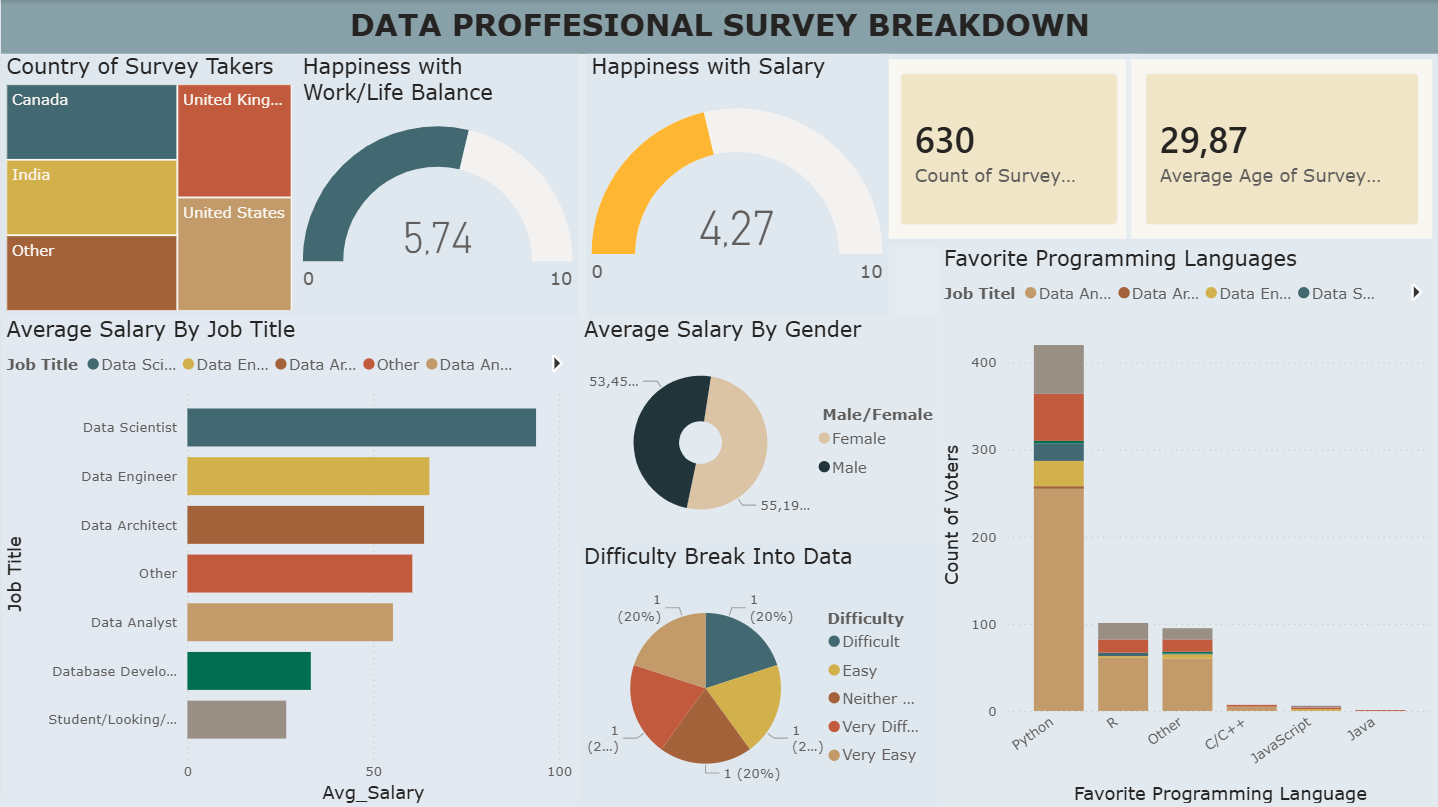

Layout of this report page (visuals, bound fields, positions):
{"tool":"powerbi","page":{"name":"Page 1","canvas":[1280,720],"ordinal":0},"visuals":[{"type":"textbox","box":[0,0,1280.3,48],"z":0},{"type":"cardVisual","fields":{"Data":["Count(Data Professional Survey.Unique ID)"]},"box":[783.6,47.4,228.7,170.5],"z":1000},{"type":"cardVisual","fields":{"Data":["Avg(Data Professional Survey.Q10 - Current Age)"]},"box":[1001.7,48,278.6,170.2],"z":2000},{"type":"barChart","title":"Average Salary By Job Title","fields":{"Category":["Data Professional Survey.Q1 - Which Title Best Fits your Current Role?.1"],"Y":["Avg(Data Professional Survey.Avg_Salary)"],"Series":["Data Professional Survey.Q1 - Which Title Best Fits your Current Role?.1"]},"box":[0,281.5,514.3,438.5],"z":3000},{"type":"columnChart","title":"Favorite Programming Languages","fields":{"Category":["Data Professional Survey.Q5 - Favorite Programming Language.1"],"Y":["CountNonNull(Data Professional Survey.Unique ID)"],"Series":["Data Professional Survey.Q1 - Which Title Best Fits your Current Role?.1"]},"box":[835,217.9,445.3,502.1],"z":4000},{"type":"treemap","title":"Country of Survey Takers","fields":{"Group":["Data Professional Survey.Q11 - Which Country do you live in?.1"],"Values":["Count(Data Professional Survey.Q11 - Which Country do you live in?.1)"]},"box":[0,47.4,263.9,234.1],"z":5000},{"type":"gauge","title":" Happiness with Work/Life Balance","fields":{"Y":["Avg(Data Professional Survey.Q6 - How Happy are you in your Current Position with the following? (Work/Life Balance))"],"MinValue":["Min(Data Professional Survey.Q6 - How Happy are you in your Current Position with the following? (Work/Life Balance))"],"MaxValue":["Max(Data Professional Survey.Q6 - How Happy are you in your Current Position with the following? (Work/Life Balance))"]},"box":[263.9,47.4,250.4,234.1],"z":6000},{"type":"gauge","title":"Happiness with Salary","fields":{"Y":["Avg(Data Professional Survey.Q6 - How Happy are you in your Current Position with the following? (Salary))"],"MinValue":["Min(Data Professional Survey.Q6 - How Happy are you in your Current Position with the following? (Salary))1"],"MaxValue":["Max(Data Professional Survey.Q6 - How Happy are you in your Current Position with the following? (Salary))2"]},"box":[521,47.4,269.3,234.1],"z":7000},{"type":"donutChart","title":"Average Salary By Gender","fields":{"Category":["Data Professional Survey.Q9 - Male/Female?"],"Y":["Avg(Data Professional Survey.Avg_Salary)"]},"box":[514.3,281.5,320.7,203],"z":8000},{"type":"pieChart","title":"Difficulty Break Into Data","fields":{"Category":["Data Professional Survey.Q7 - How difficult was it for you to break into Data?"],"Y":["Count(Data Professional Survey.Q7 - How difficult was it for you to break into Data?)"]},"box":[514.3,484.5,320.7,235.5],"z":8001}]}

Visuals, with their boxes in screenshot pixels (x1, y1, x2, y2), scaled from the page's 1280x720 canvas onto the 1438x807 screenshot:
textbox: x1=0 y1=0 x2=1437 y2=54
cardVisual - Count(Data Professional Survey.Unique ID): x1=880 y1=53 x2=1137 y2=244
cardVisual - Avg(Data Professional Survey.Q10 - Current Age): x1=1125 y1=54 x2=1437 y2=245
"Average Salary By Job Title" barChart: x1=0 y1=316 x2=578 y2=806
"Favorite Programming Languages" columnChart: x1=938 y1=244 x2=1437 y2=806
"Country of Survey Takers" treemap: x1=0 y1=53 x2=296 y2=316
" Happiness with Work/Life Balance" gauge: x1=296 y1=53 x2=578 y2=316
"Happiness with Salary" gauge: x1=585 y1=53 x2=888 y2=316
"Average Salary By Gender" donutChart: x1=578 y1=316 x2=938 y2=543
"Difficulty Break Into Data" pieChart: x1=578 y1=543 x2=938 y2=806
